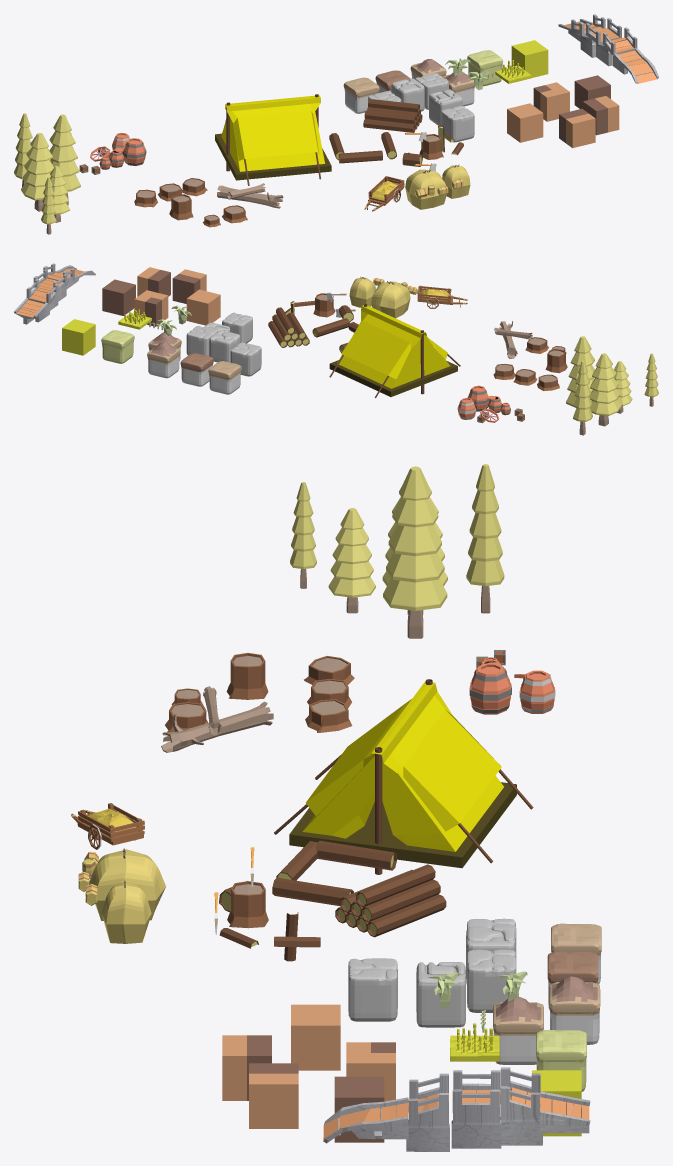
Rendered from Stage1Copy.fbx.
3 views of the same model, one above another, from view 1: azimuth 30°, elevation 25°; view 2: azimuth 150°, elevation 25°; view 3: azimuth 270°, elevation 25° (orthographic). The views are drawn at different scales.
Visible parts, largest first — view 1: Cube.615, stockOfLogs, ChubbyTree, BigTree, Road, RoadSide2, BigHay, RoadCorner, WeedGround, RoadSide1, Cube.623, DirtGround2 (+27 smaller); view 2: Cube.615, ChubbyTree, BigHay, stockOfLogs, WeedGround, Road, SideWalk, PlantGround, DirtGround2, GreenGround, TallTree, BigTree (+28 smaller); view 3: Cube.615, BigTree, stockOfLogs, Bridge4, TallTree, GroundPlant, Road, RoadSide1, Cube.623, ThinBigTree, Bridge3, Bridge5 (+28 smaller).
Boxes of the visible parts, x1,y1,x2,y2 form: Cube.615: (215,94,331,185); stockOfLogs: (363,99,422,132); ChubbyTree: (21,133,53,211); BigTree: (49,114,80,205); Road: (507,103,543,142); RoadSide2: (559,108,595,148); BigHay: (405,169,446,209); RoadCorner: (533,82,569,121); WeedGround: (511,40,548,77); RoadSide1: (583,96,619,135); Cube.623: (441,105,474,142); DirtGround2: (343,77,379,113); Cube.615: (329,304,460,398); ChubbyTree: (589,353,621,426); BigHay: (371,281,410,318); stockOfLogs: (268,307,309,347); WeedGround: (62,319,95,355); Road: (186,289,220,325); SideWalk: (102,279,135,315); PlantGround: (147,342,180,378); DirtGround2: (208,361,241,394); GreenGround: (101,330,134,363); TallTree: (573,360,592,435); BigTree: (566,336,594,406); Cube.615: (274,679,533,874); BigTree: (383,466,447,638); stockOfLogs: (335,864,446,937); Bridge4: (451,1070,501,1148); TallTree: (466,464,504,613); GroundPlant: (493,971,543,1064); Road: (291,1004,340,1070); RoadSide1: (249,1063,298,1128); Cube.623: (348,958,397,1021); ThinBigTree: (328,508,375,613); Bridge3: (406,1073,449,1151); Bridge5: (500,1067,542,1145).
Bounding box in the file's own units: 53.88 × 9.18 × 21.41.
